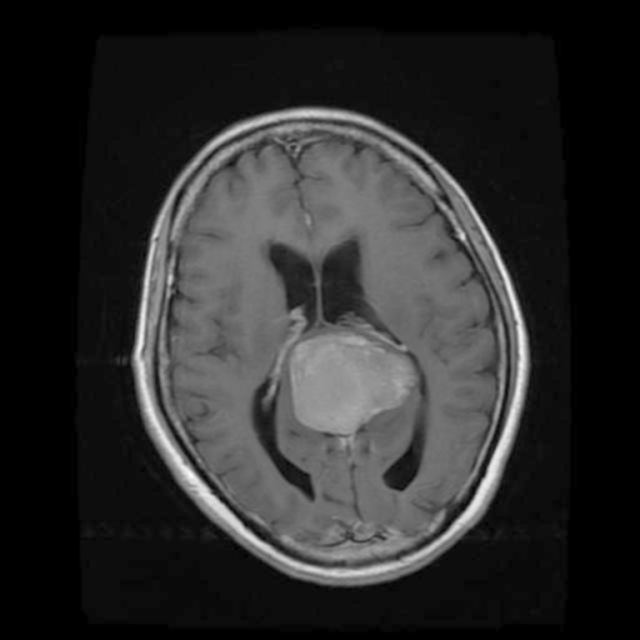meningioma tumor: (270, 316, 431, 456)
